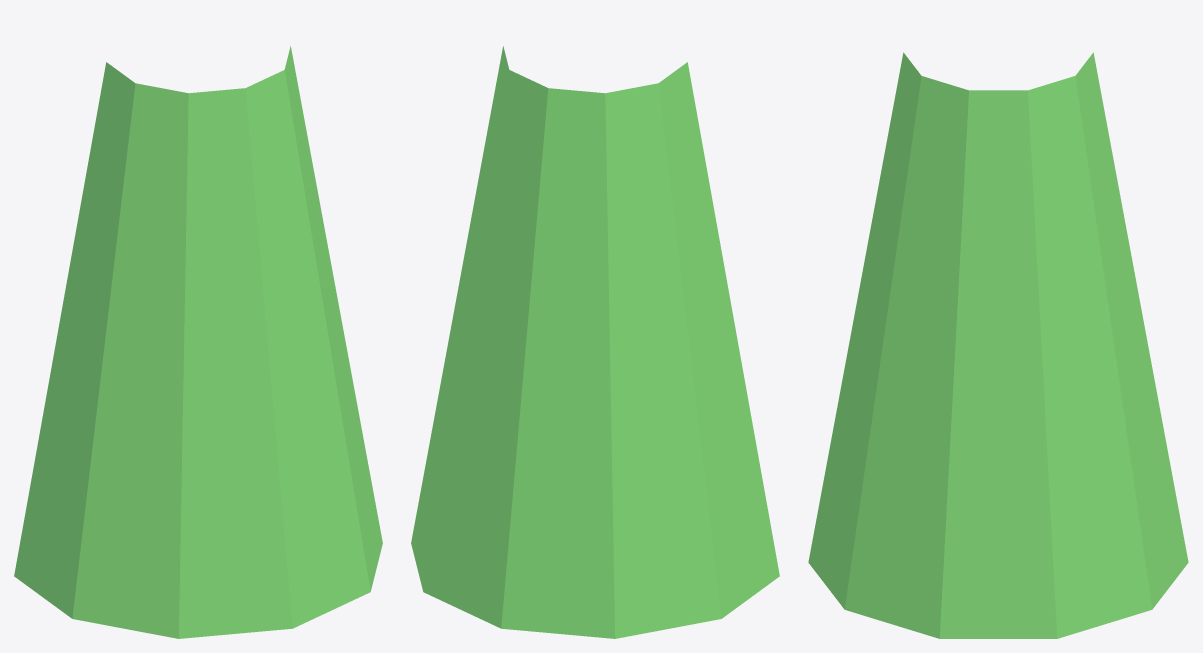
Rendered from space-ufo-beam.glb.
3 renders of one model, left to right at view 1: azimuth 30°, elevation 25°; view 2: azimuth 150°, elevation 25°; view 3: azimuth 270°, elevation 25°, orthographic.
Parts seen in each view (by area): view 1: ufo-beam; view 2: ufo-beam; view 3: ufo-beam.
Boxes of the visible parts, left/top/right/bottom form: ufo-beam: left=14, top=46, right=382, bottom=638; ufo-beam: left=411, top=46, right=779, bottom=638; ufo-beam: left=808, top=52, right=1188, bottom=638.
Size of the model in its own units: 6.42 by 10 by 6.75.
